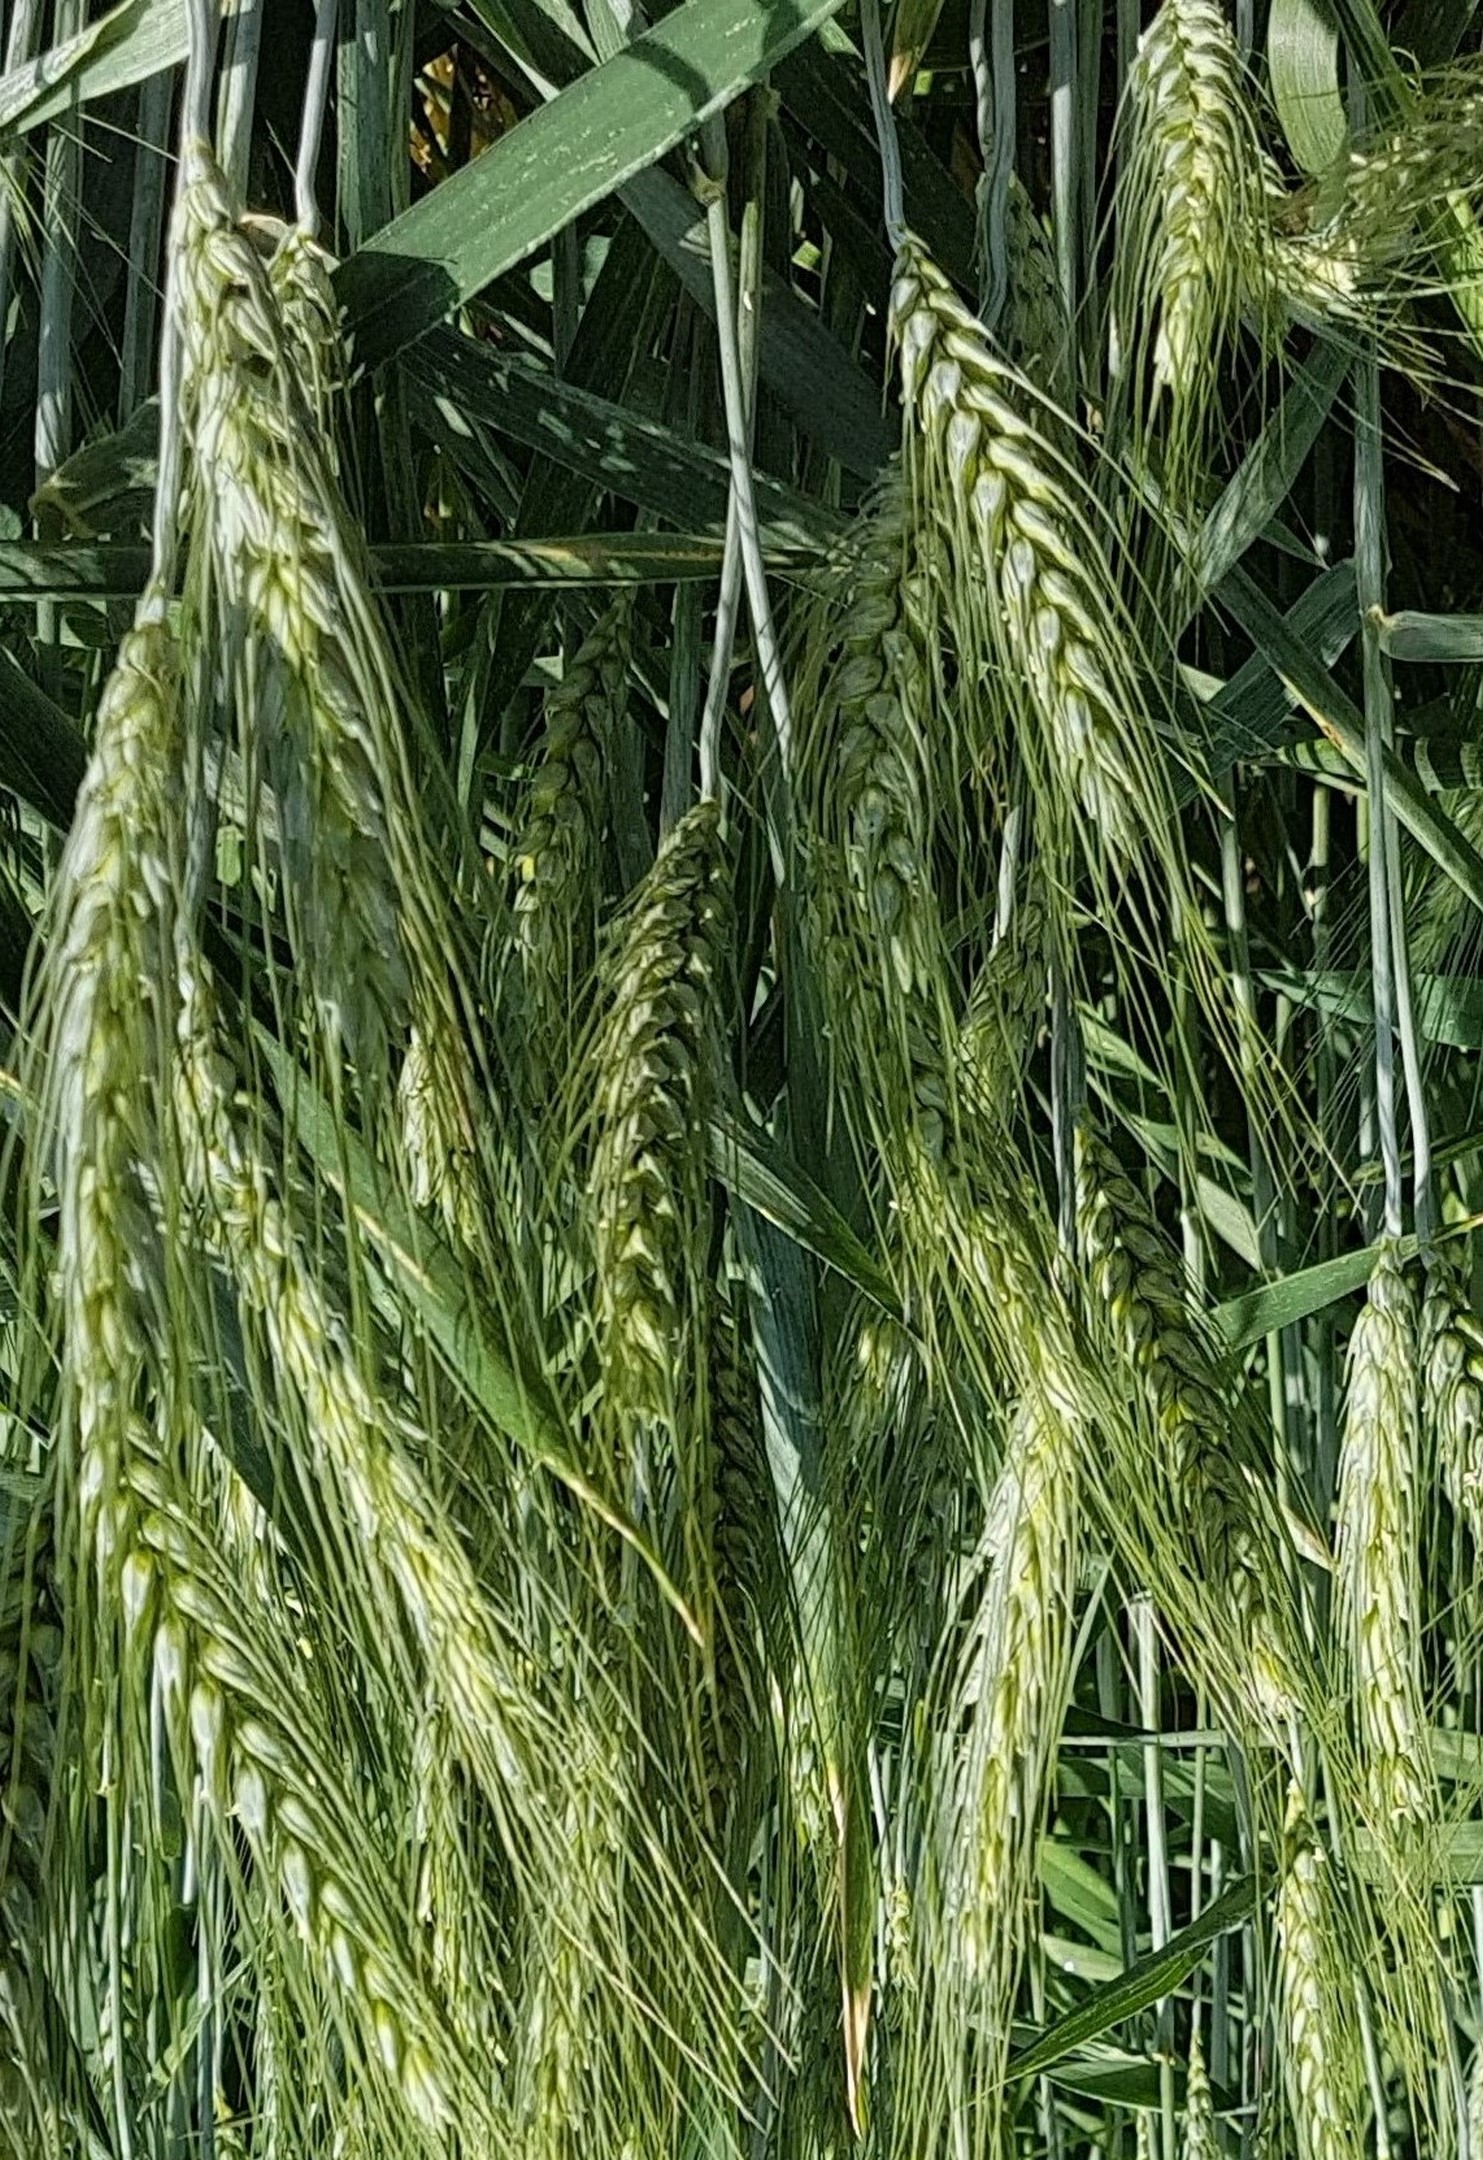Healthy Wheat: (874, 259, 1199, 857), (573, 757, 760, 1454), (126, 167, 372, 680)
